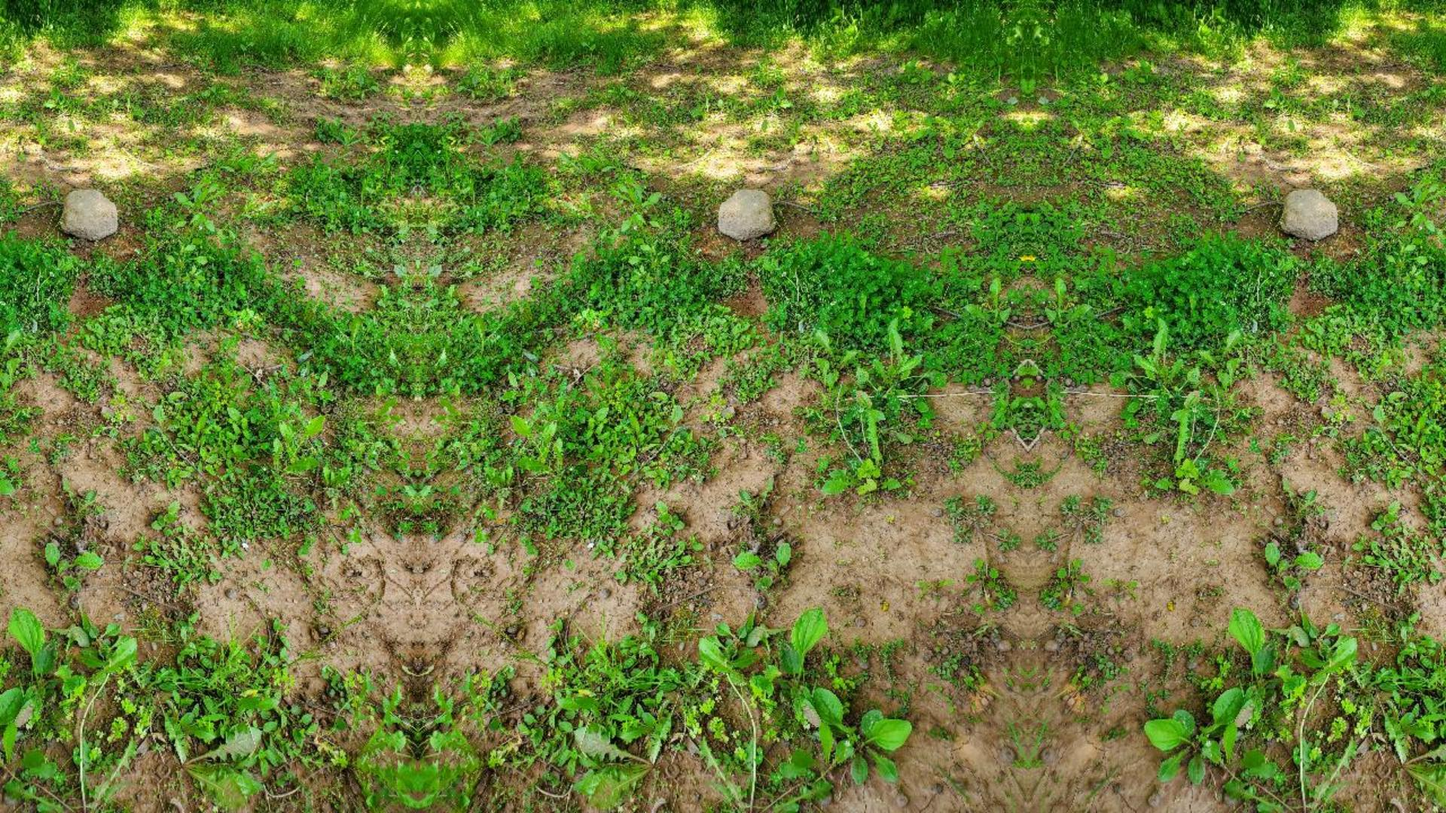rock: (718, 189, 776, 239), (1281, 189, 1336, 239), (62, 189, 116, 239)
